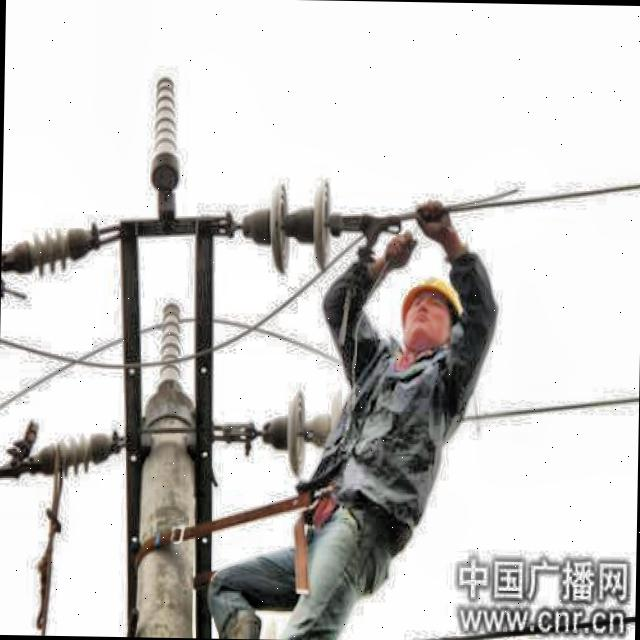helmet: (390, 247, 470, 366)
